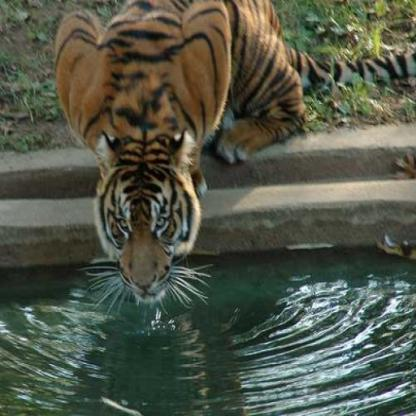Tiger: (40, 0, 345, 306)
